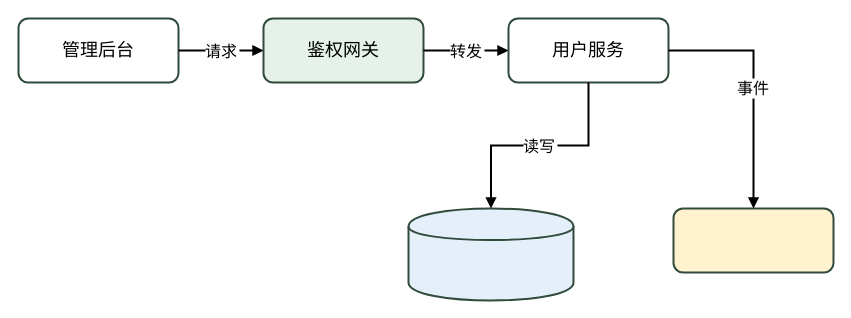
The diagram is 851 pixels wide and 318 high, and some of its shapes have lost their labels. The box of each missing label's shape, as (x1, y1, x2, y2) in pixels:
审计队列: (672, 207, 834, 273)
用户数据库: (407, 207, 574, 301)
